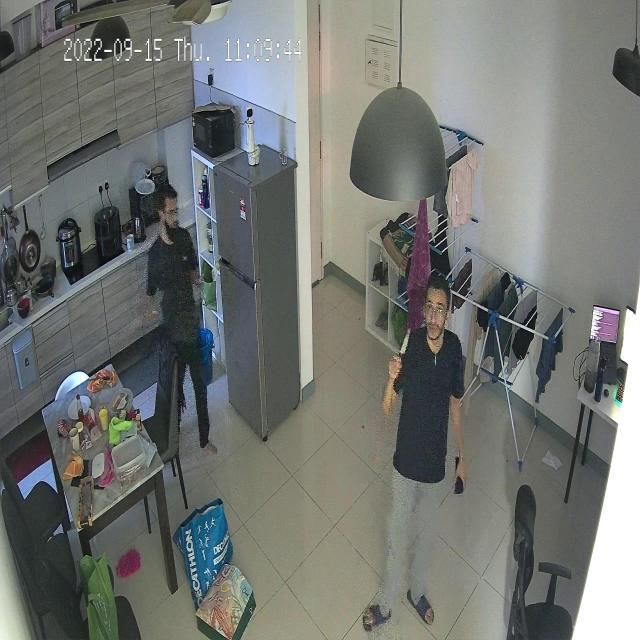Knife: (382, 319, 421, 391)
